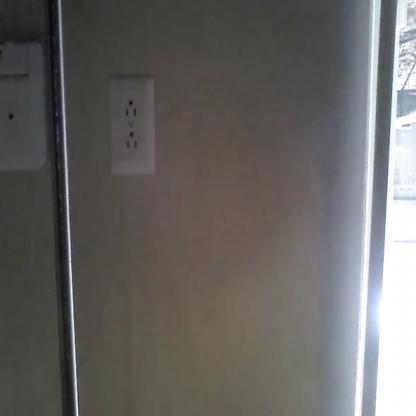OUTLET: (110, 78, 154, 176)
